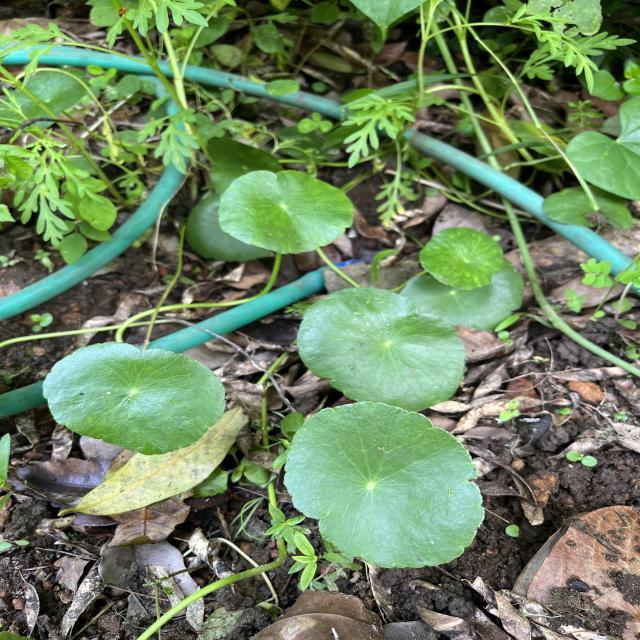Bacopa monnieri: (280, 399, 487, 571), (296, 285, 470, 414), (40, 340, 228, 458), (215, 166, 356, 256), (417, 225, 507, 292)
